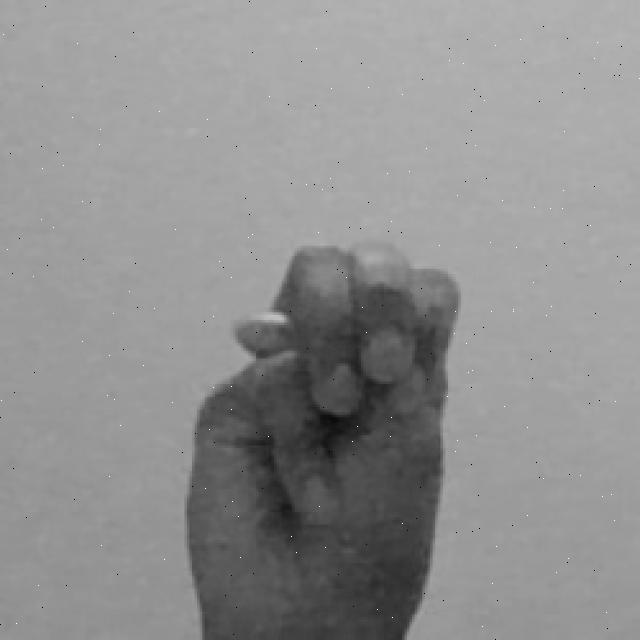M: (180, 237, 464, 640)
